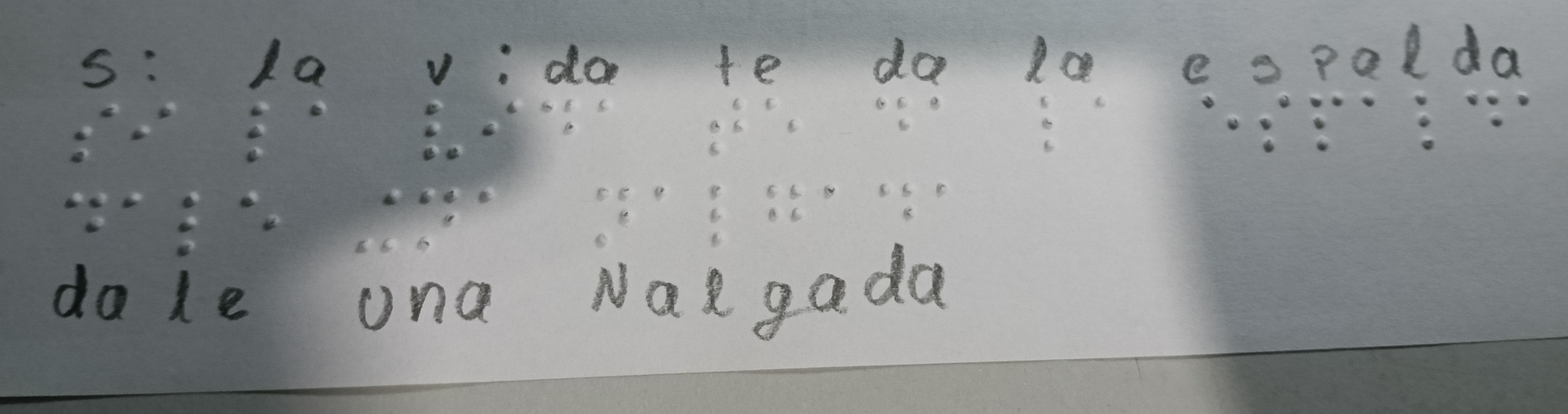a: (282, 89, 357, 135), (1073, 81, 1129, 131), (1352, 85, 1391, 137), (812, 179, 857, 220), (639, 181, 685, 221), (465, 185, 517, 220), (912, 85, 955, 125), (583, 87, 621, 129), (926, 179, 963, 220), (1509, 79, 1539, 127), (122, 187, 143, 221)
d: (52, 181, 118, 248), (860, 85, 916, 156), (534, 87, 585, 154), (1458, 77, 1505, 144), (864, 175, 924, 225)
e: (1184, 87, 1248, 152), (237, 183, 293, 239), (758, 94, 812, 144)
g: (752, 179, 818, 239)
i: (127, 96, 195, 154), (465, 92, 532, 142)
l: (1005, 81, 1076, 173), (1399, 77, 1447, 160), (172, 183, 214, 272), (696, 181, 743, 256), (241, 98, 286, 169)
n: (579, 181, 639, 254), (415, 181, 465, 258)
p: (1304, 85, 1354, 162)
s: (54, 91, 125, 177), (1254, 85, 1298, 166)
t: (687, 96, 754, 168)
u: (345, 185, 407, 262)
v: (401, 92, 467, 171)
